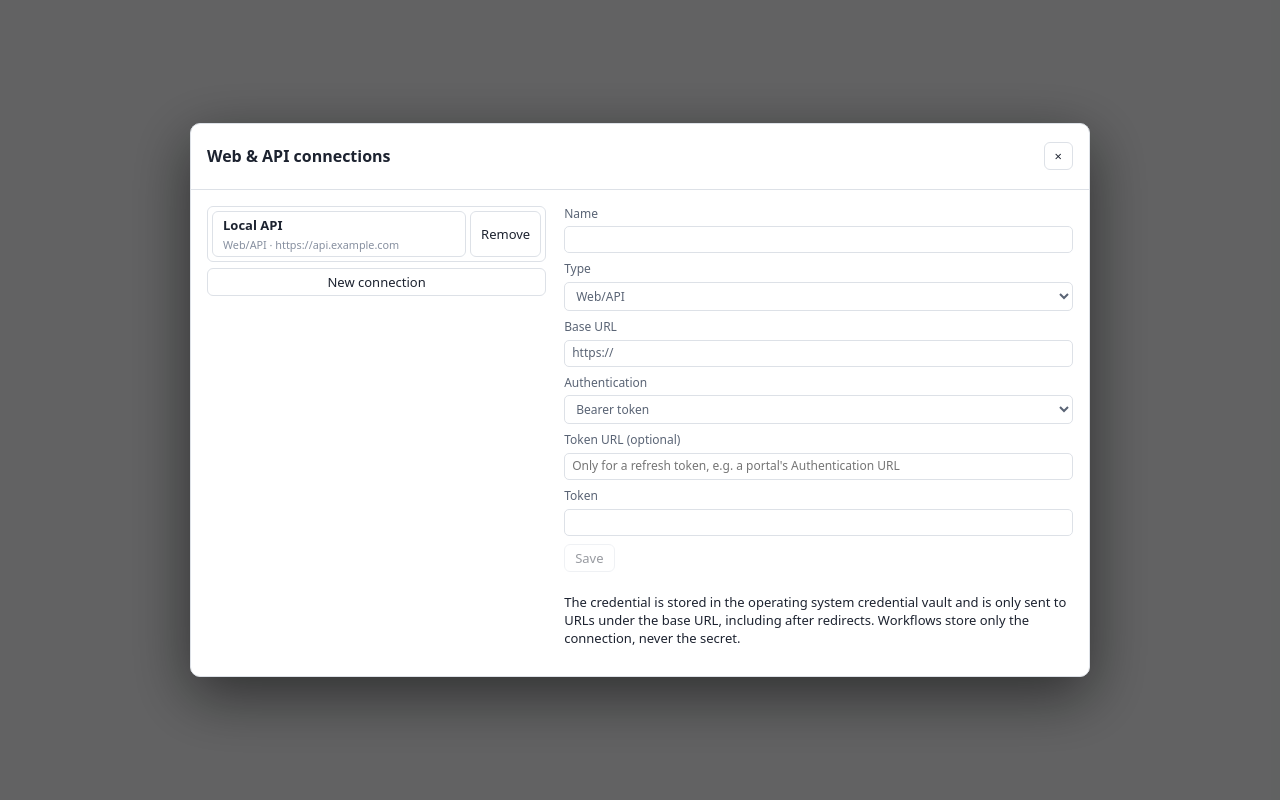
Test case: Web & API connections › saves a GitHub connection with its token passed separately from the settings
The width and height of the screenshot is (1280, 800).
Expected: the text "Local API" is shown, [223, 216, 282, 234]
Type "GitHub" into the field labelled "Name" at (819, 240), box [564, 226, 1073, 253]
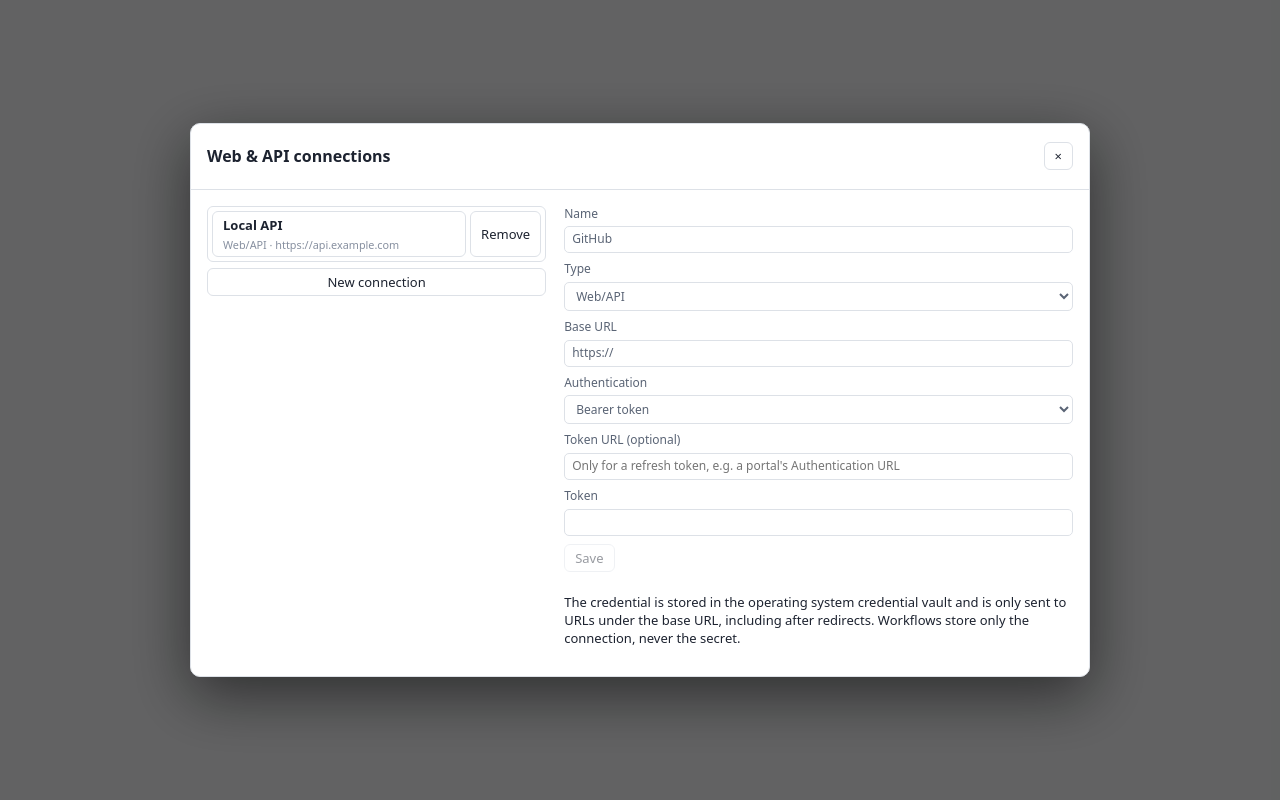
Select "GitHub" in the dropdown named "Connection type" at (819, 296), box [564, 282, 1073, 311]
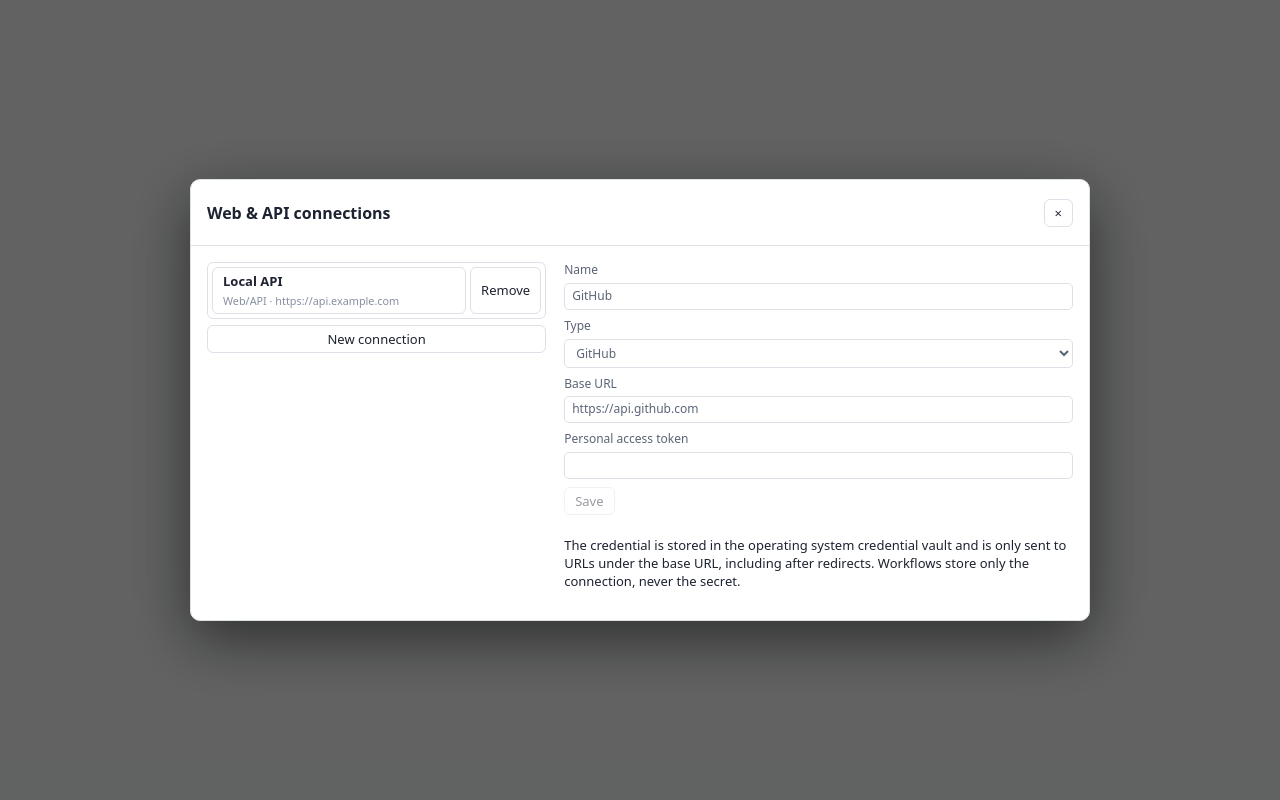
Result: the field labelled "Base URL" holds "https://api.github.com" at [564, 396, 1073, 423]
Type "ghp_secret" into the password field named "Secret" at (819, 466), box [564, 452, 1073, 479]
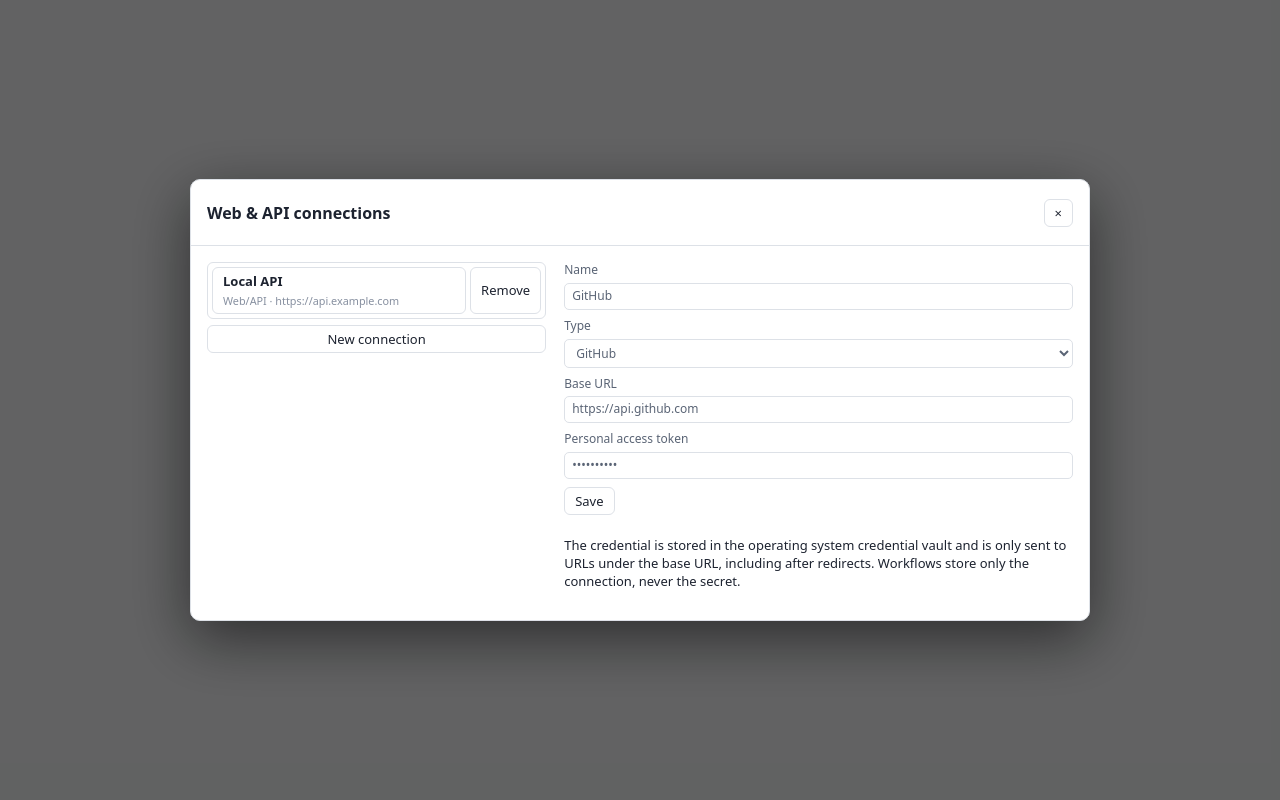
Click the button "Save" at (589, 501), box [564, 487, 615, 515]
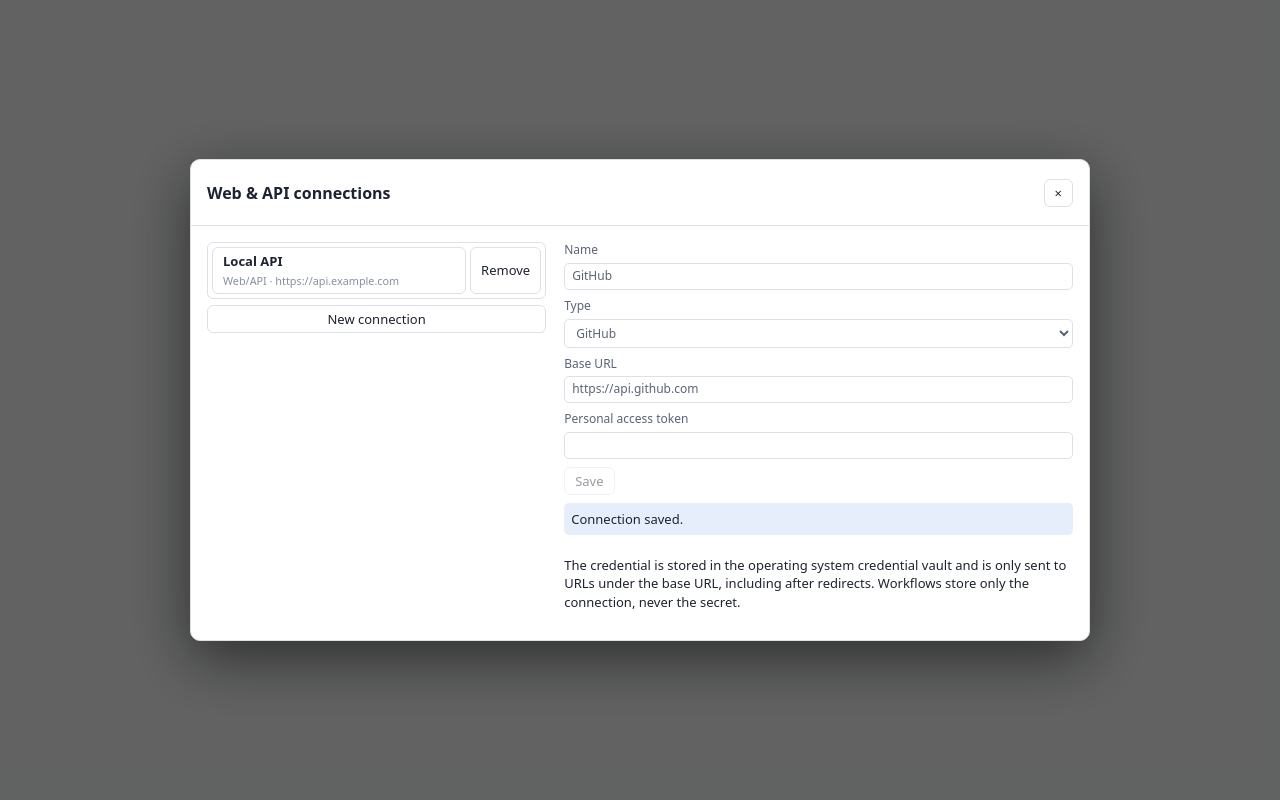
Result: the text "Connection saved." is shown at [564, 503, 1073, 535]
